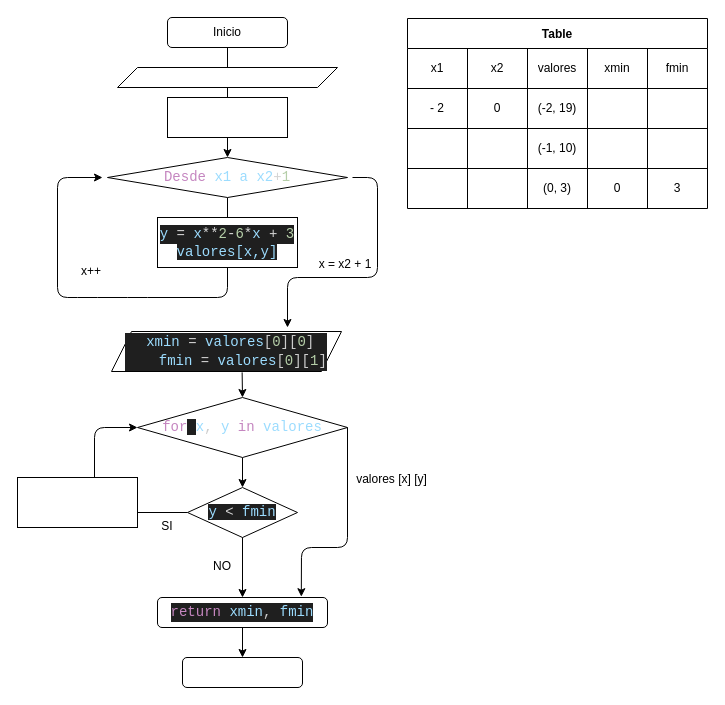
Image size: 725x705. Some labels were removed from this diagram. Each missing label, with the centre of its shape:
Fin: [242,672]
valores = []: [227,117]
x1 : int , x2 : int: [227,77]
xmin = x fmin = y: [77,502]
